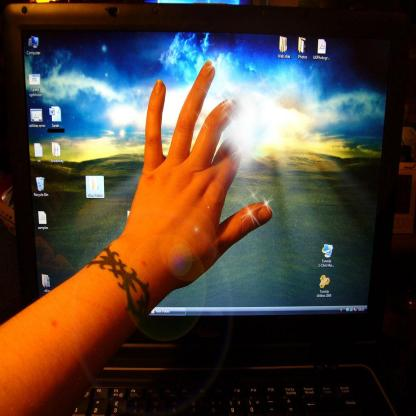board: (1, 4, 410, 413)
